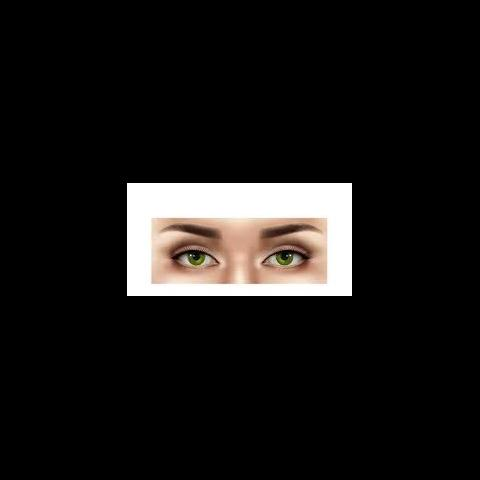opened: (163, 224, 322, 279)
